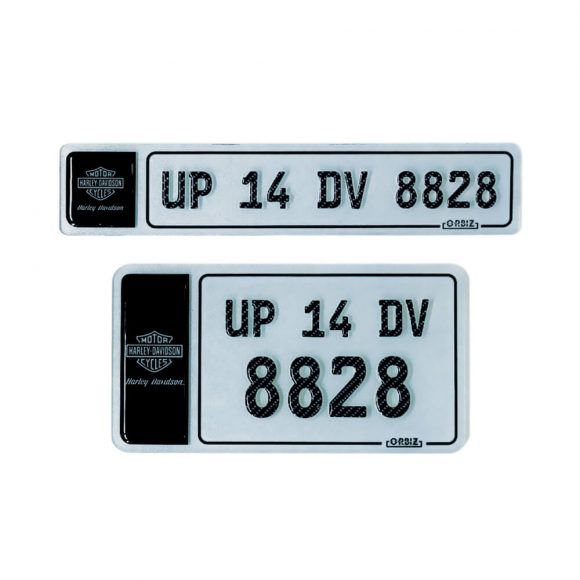number_plate: (111, 263, 472, 456), (59, 141, 524, 238)
